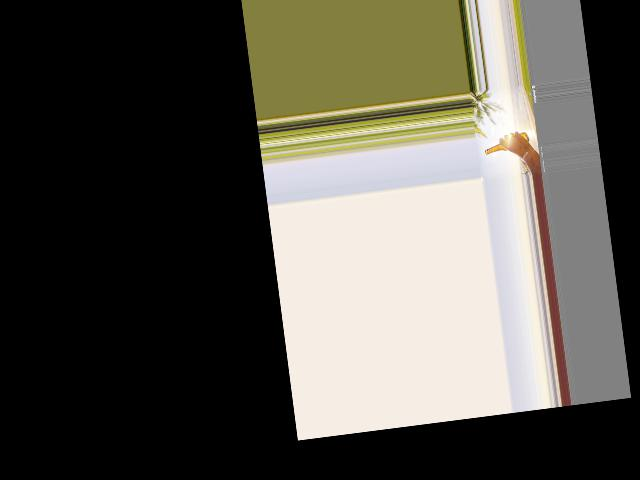beer: (483, 131, 530, 155)
